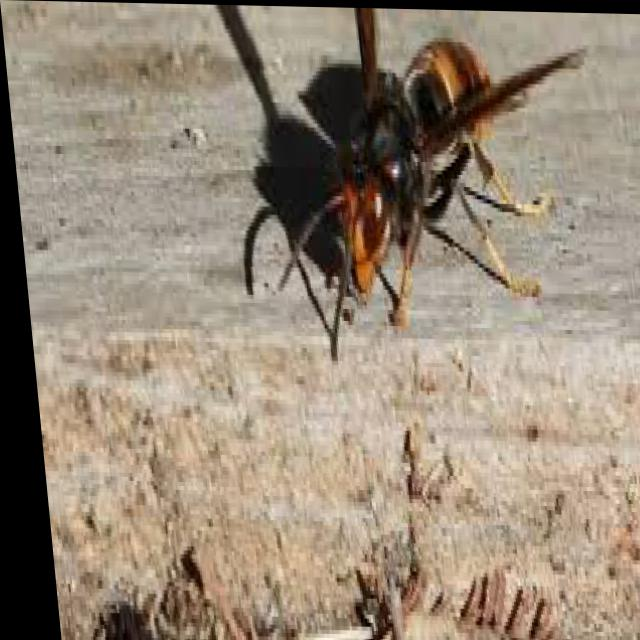Vespa Velutina: (249, 5, 616, 378)
